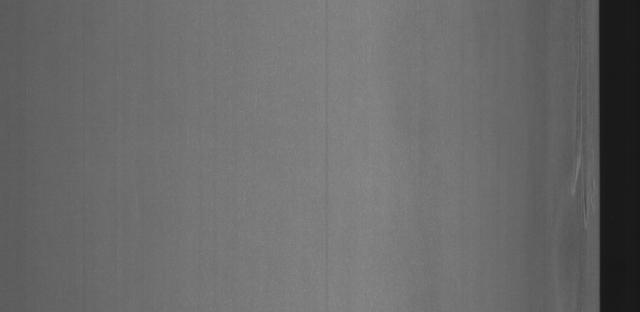silk_spot: (559, 12, 597, 307)
